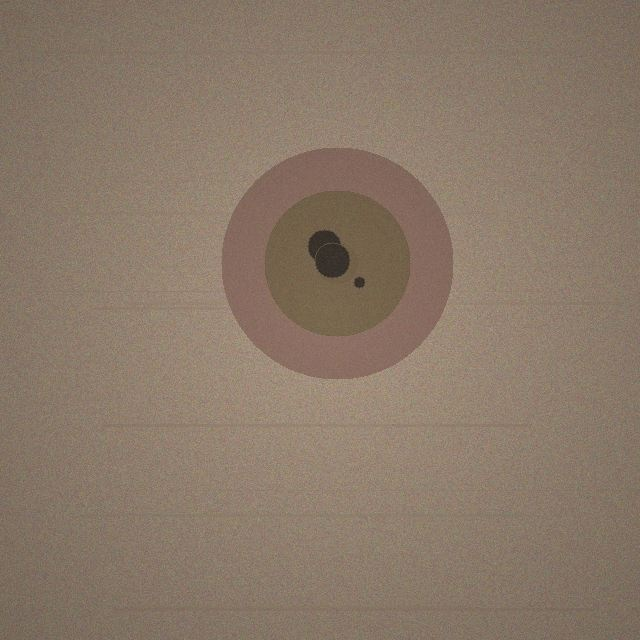shrinkage: (221, 147, 453, 379)
